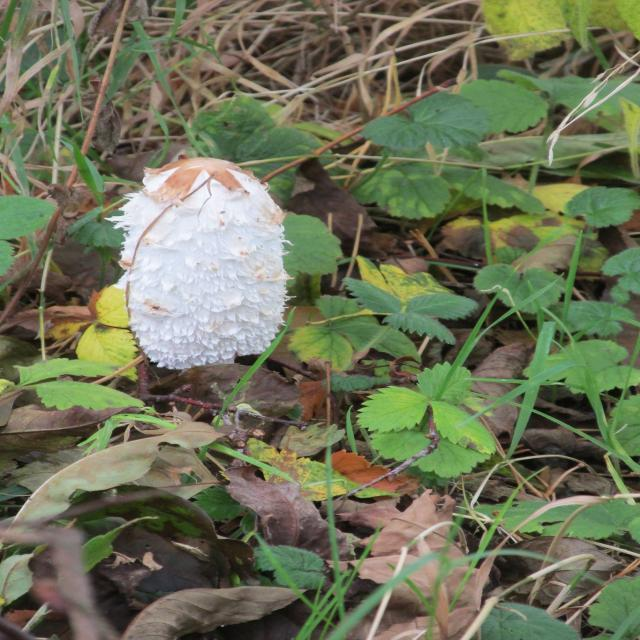Coprinus comatus: (118, 158, 285, 370)
